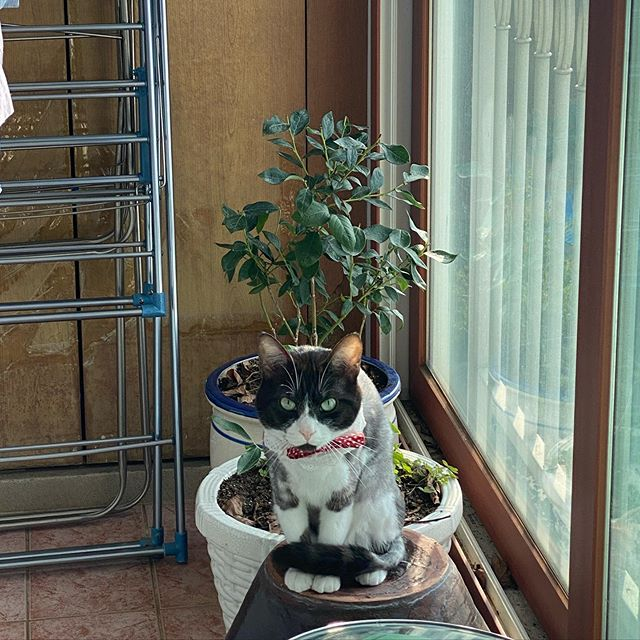cat: (250, 328, 377, 455)
